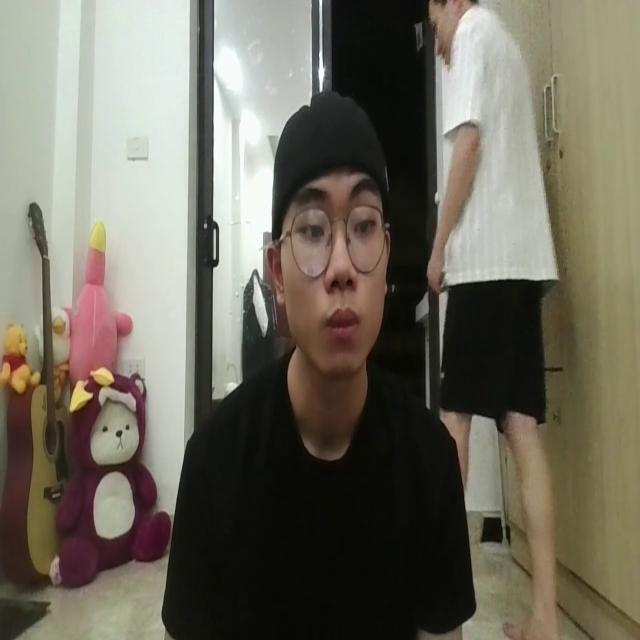extra_person: (421, 0, 572, 628)
student: (141, 90, 472, 640)
